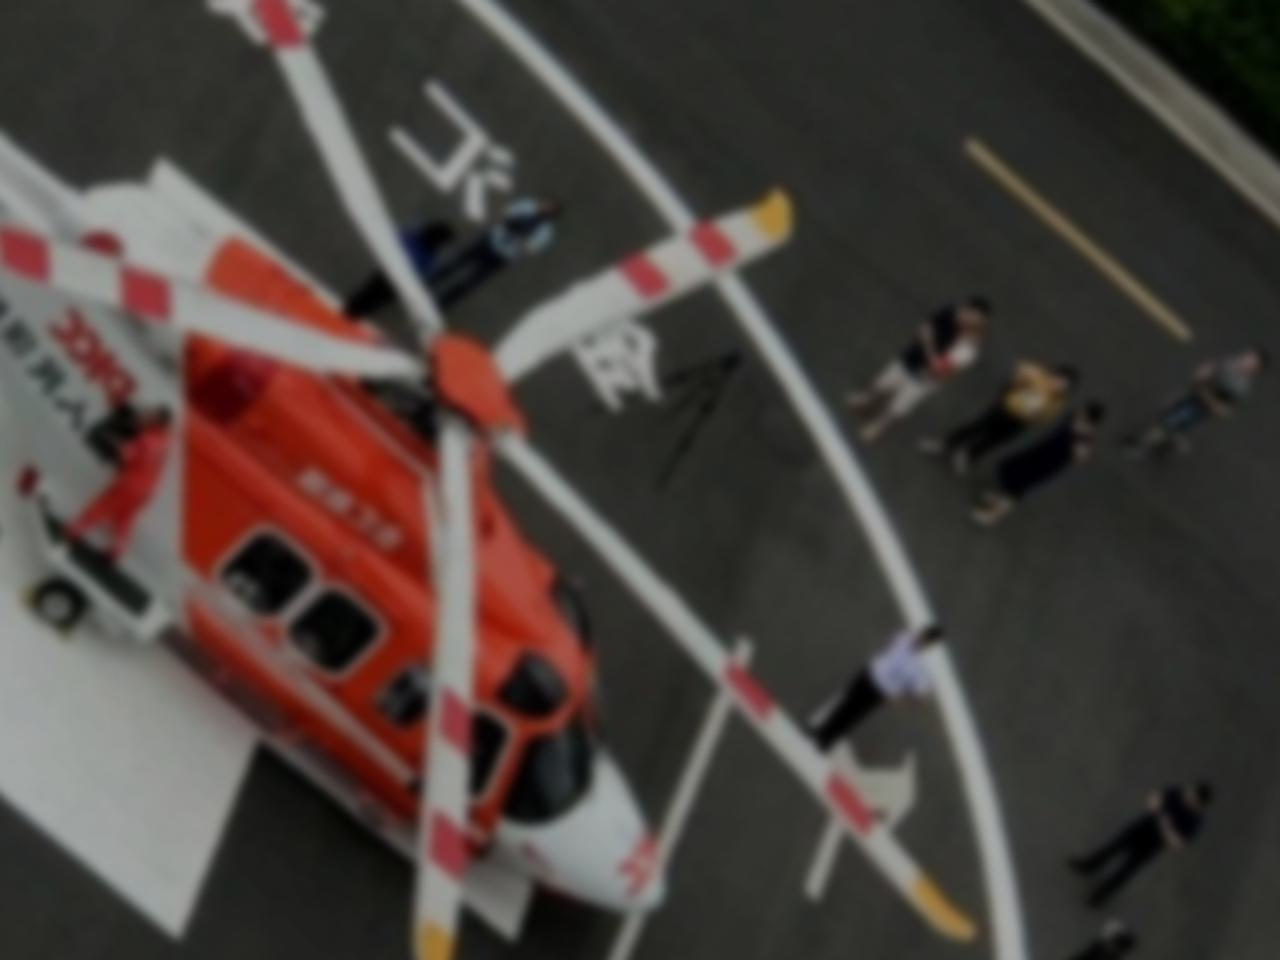Apron: (1, 1, 1040, 959)
